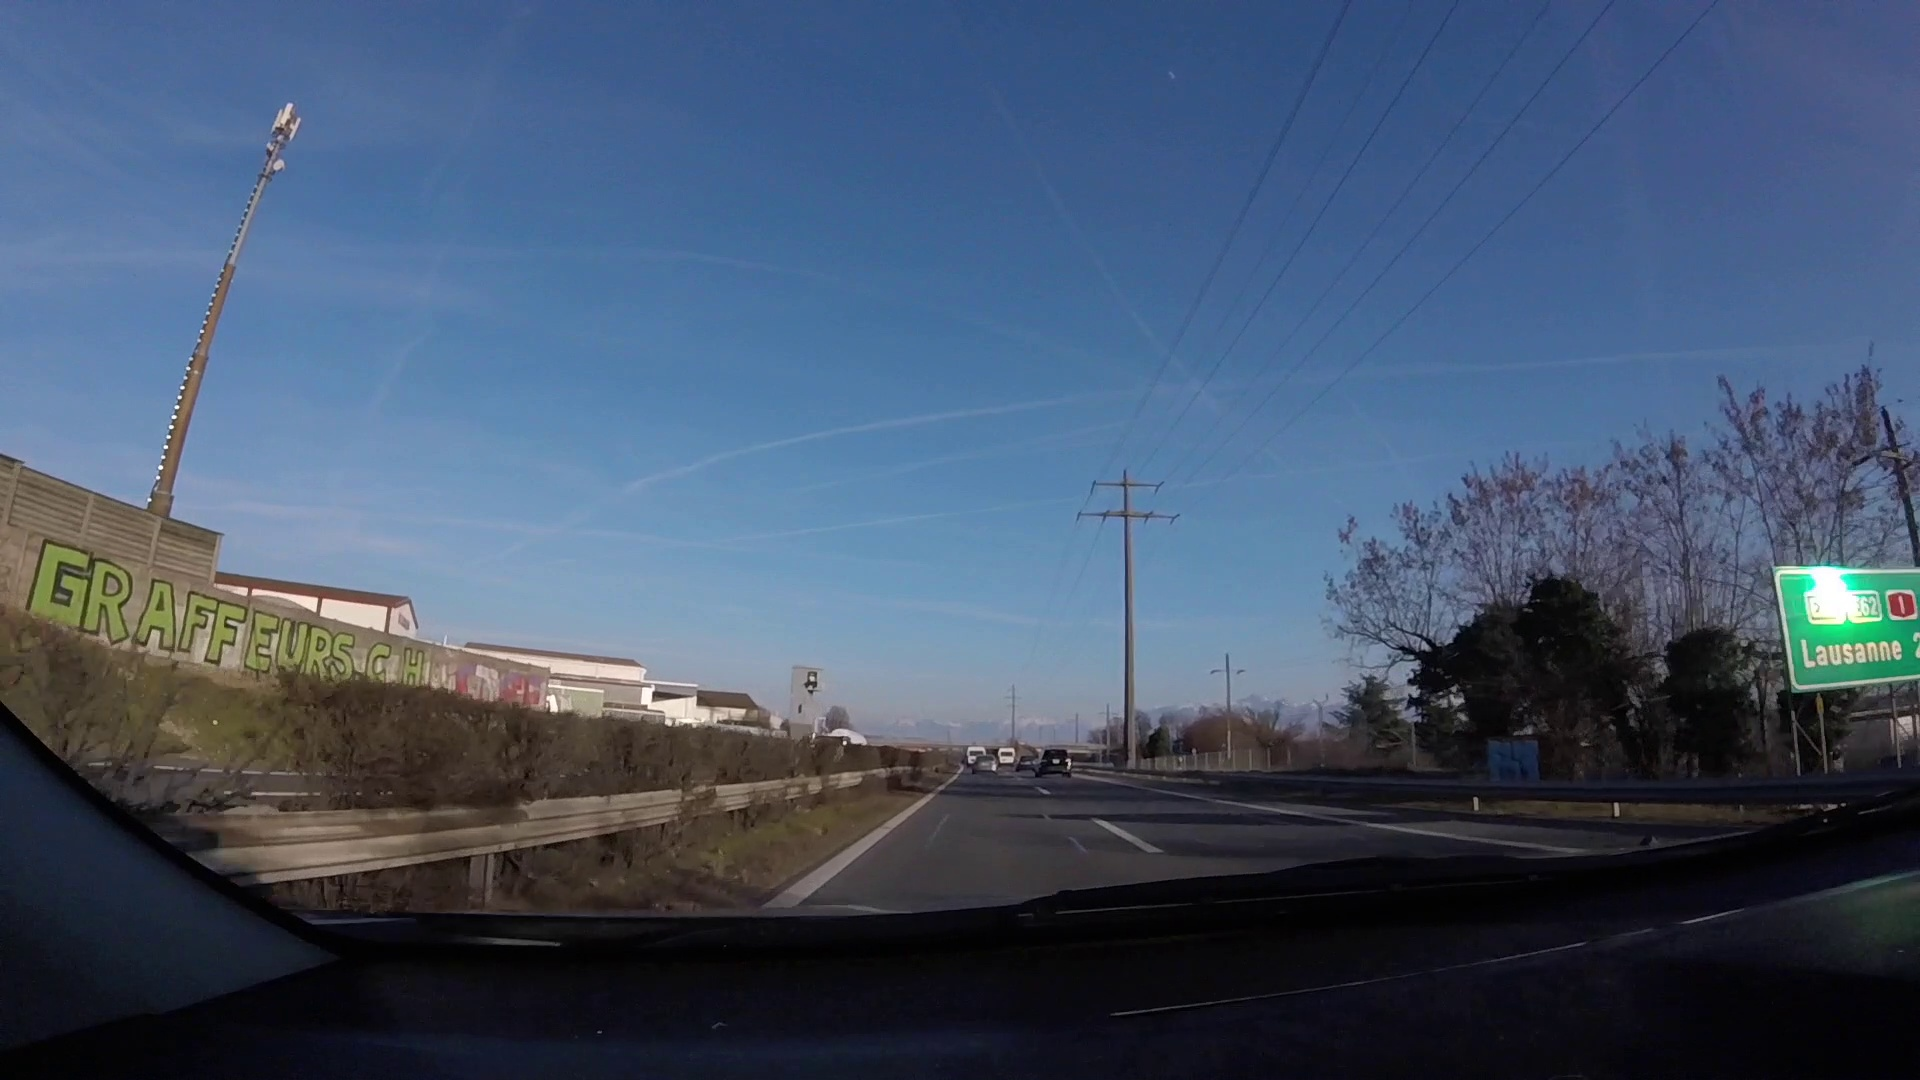radar: (787, 663, 828, 745)
